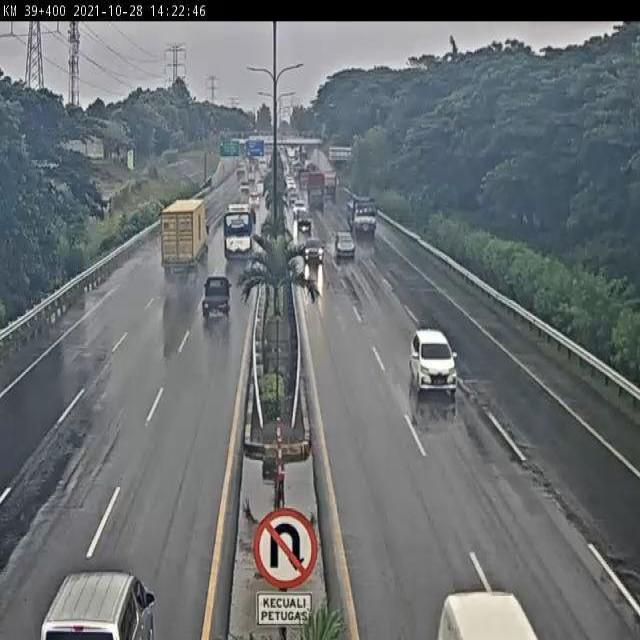ARABA: (201, 274, 234, 318)
OTOBUS: (224, 198, 258, 254)
TIR: (159, 198, 209, 278)
